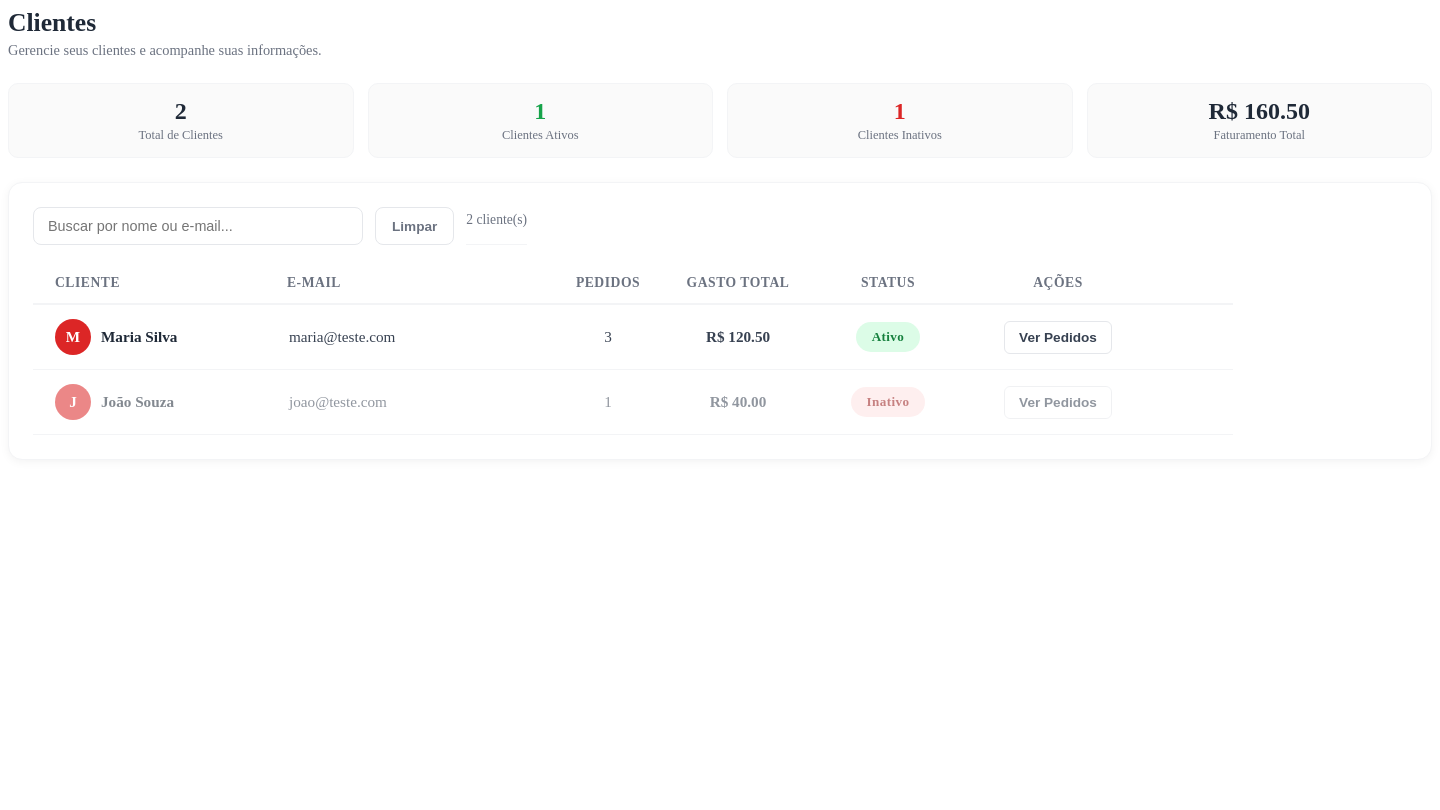
Test: AdminClientes › Ver Pedidos busca e expande os pedidos daquele cliente
Check: the text "Maria Silva" is shown, box [101,328,177,346]
Step 1. Click the button "Ver Pedidos" in the row of "Maria Silva" → (1058, 337), box [1004,320,1112,354]
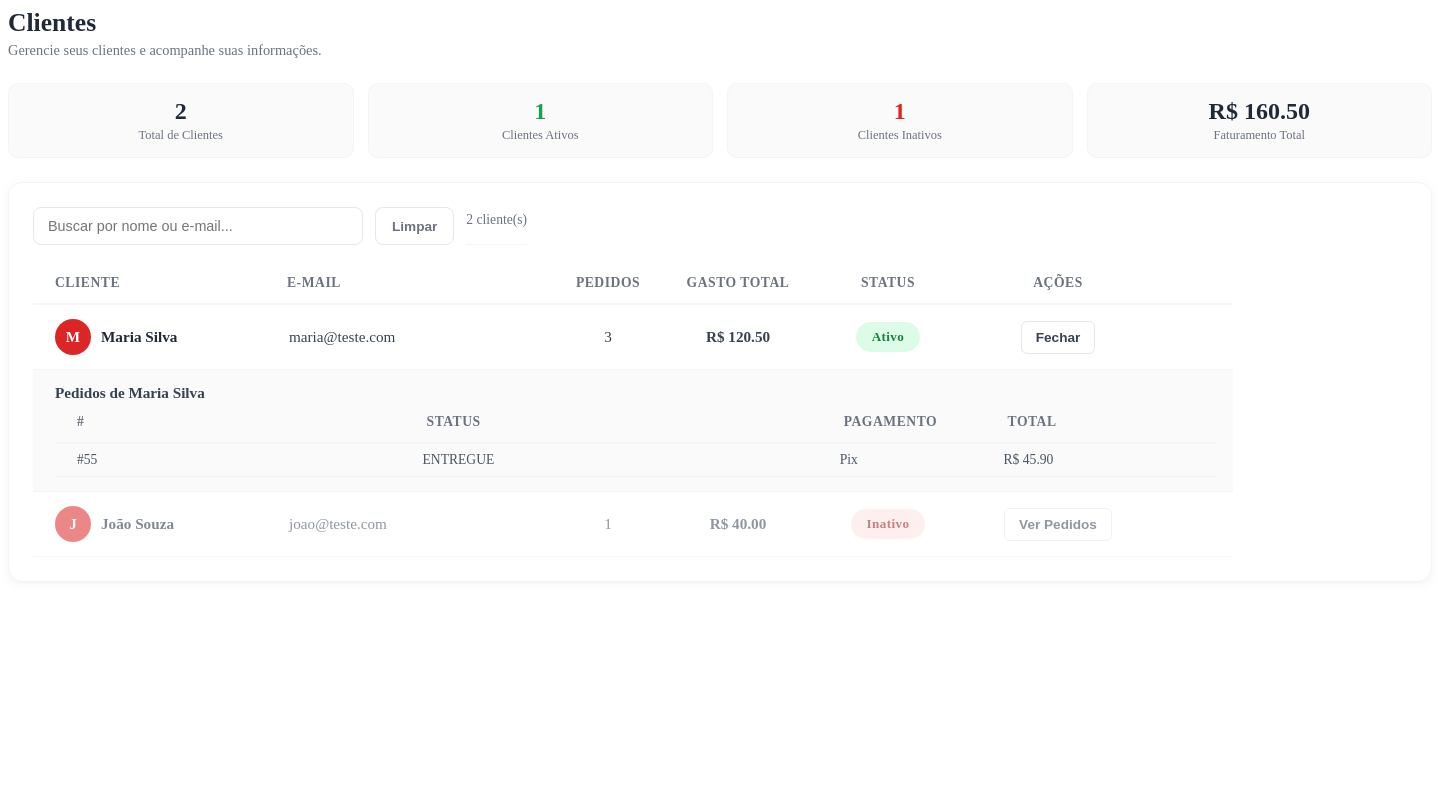
Check: the text "#55" is shown, box [55,443,412,476]
Check: the text "Pedidos de Maria Silva" is shown, box [55,384,205,401]
Check: the text "R$ 45.90" is shown, box [994,443,1217,476]
